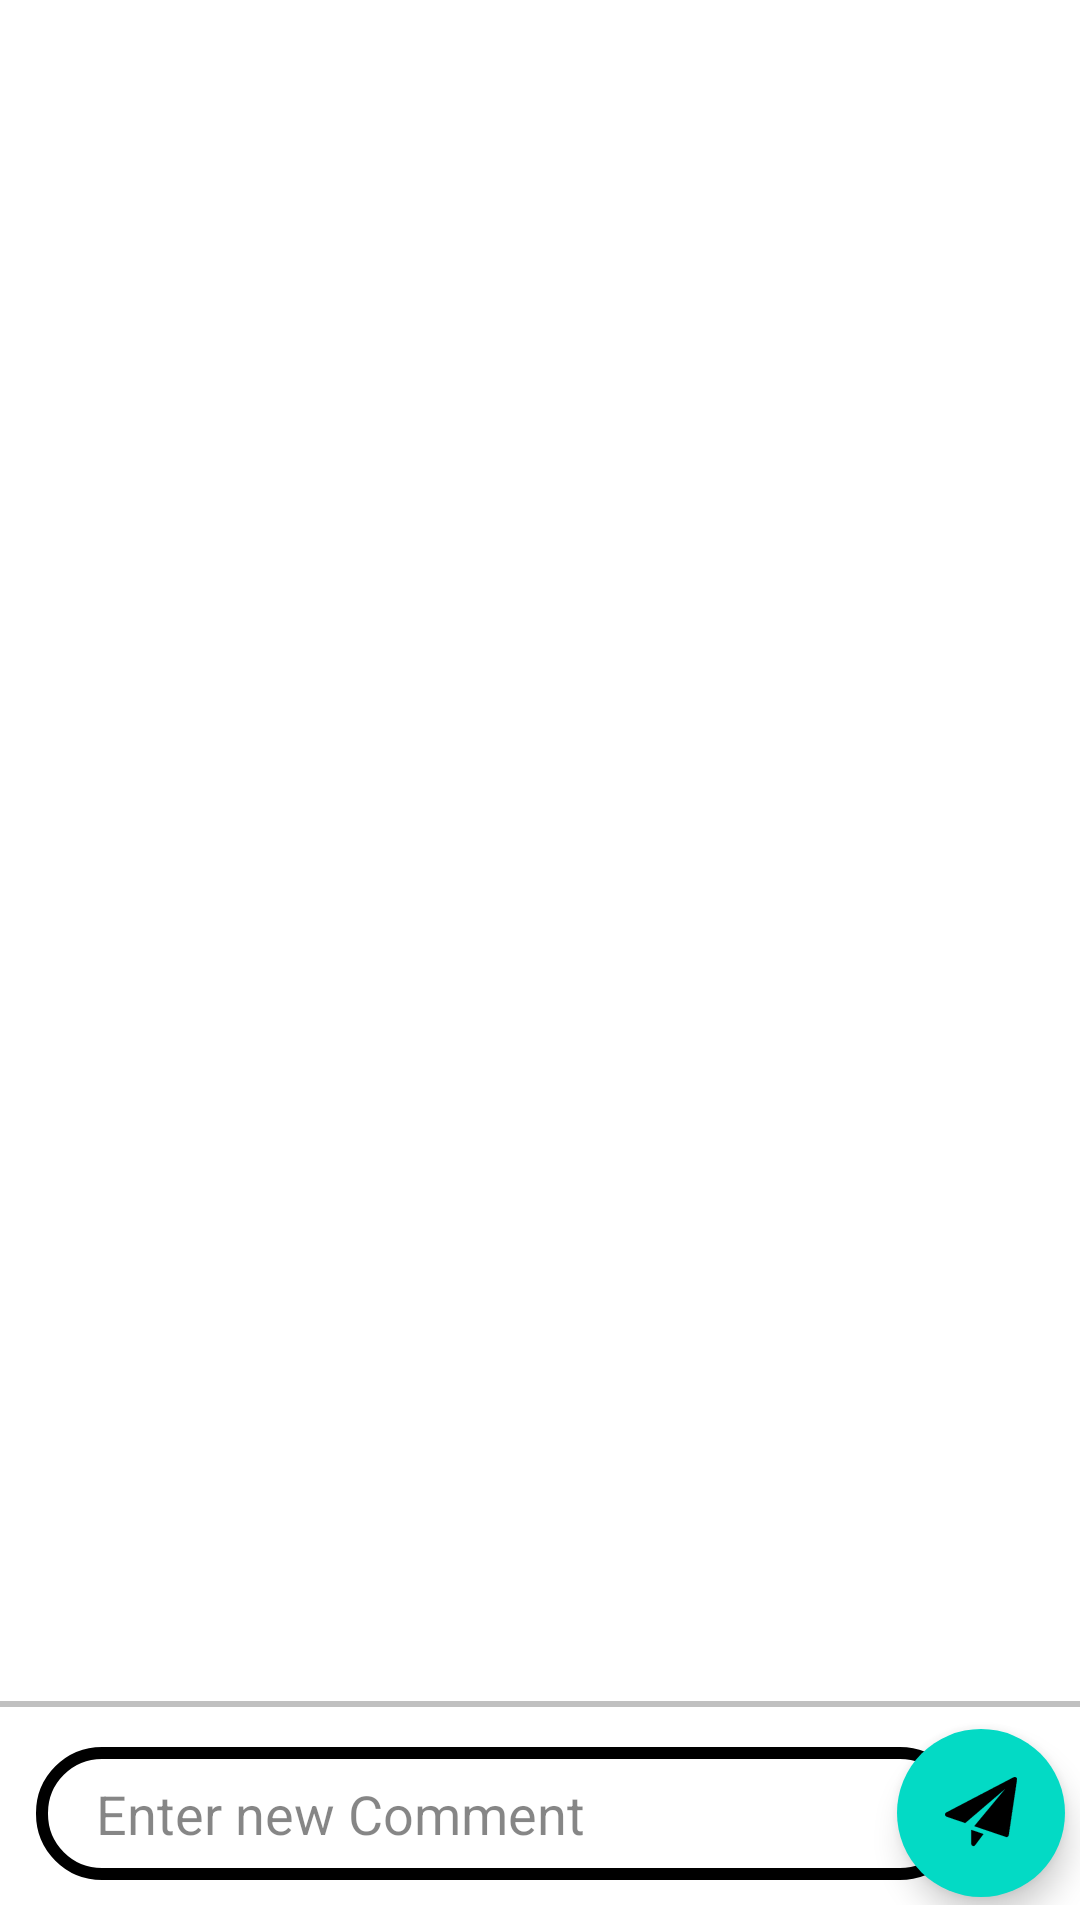

Locate icon controls on the screen. Image size 1080*1920, boxes as Rect(x1, y1, x2, y2).
send: Rect(897, 1729, 1065, 1897)
